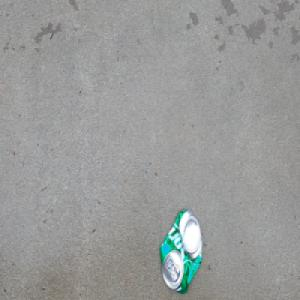SodaCan: (158, 206, 203, 296)
